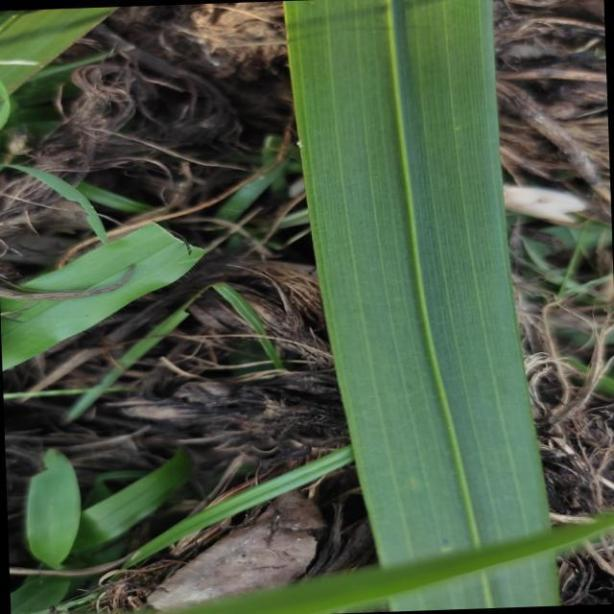Healthy: (284, 5, 560, 614)
